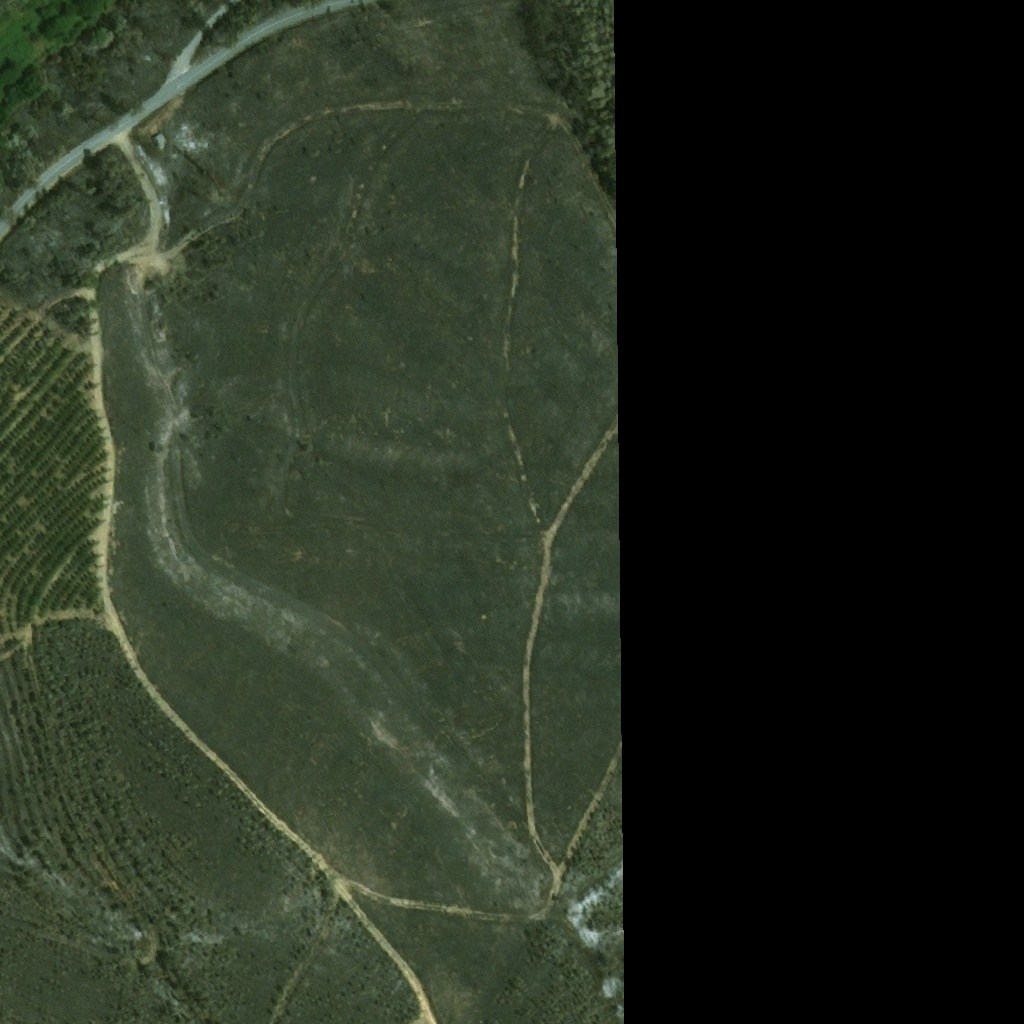1 minor-damage: (154, 134, 170, 152)
